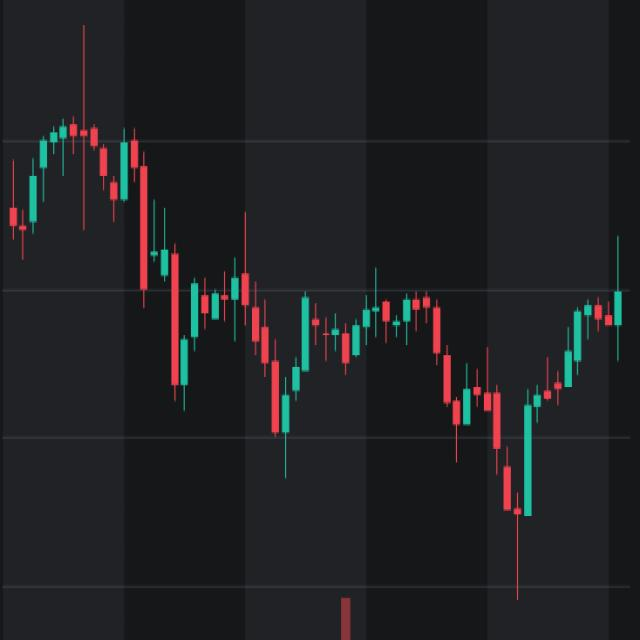Resistance-Emerging: (165, 242, 634, 525)
